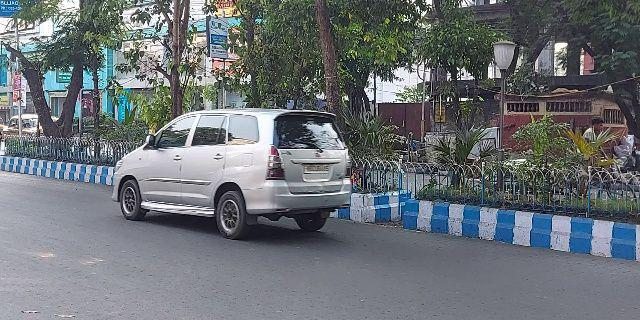Car: (110, 106, 351, 238)
